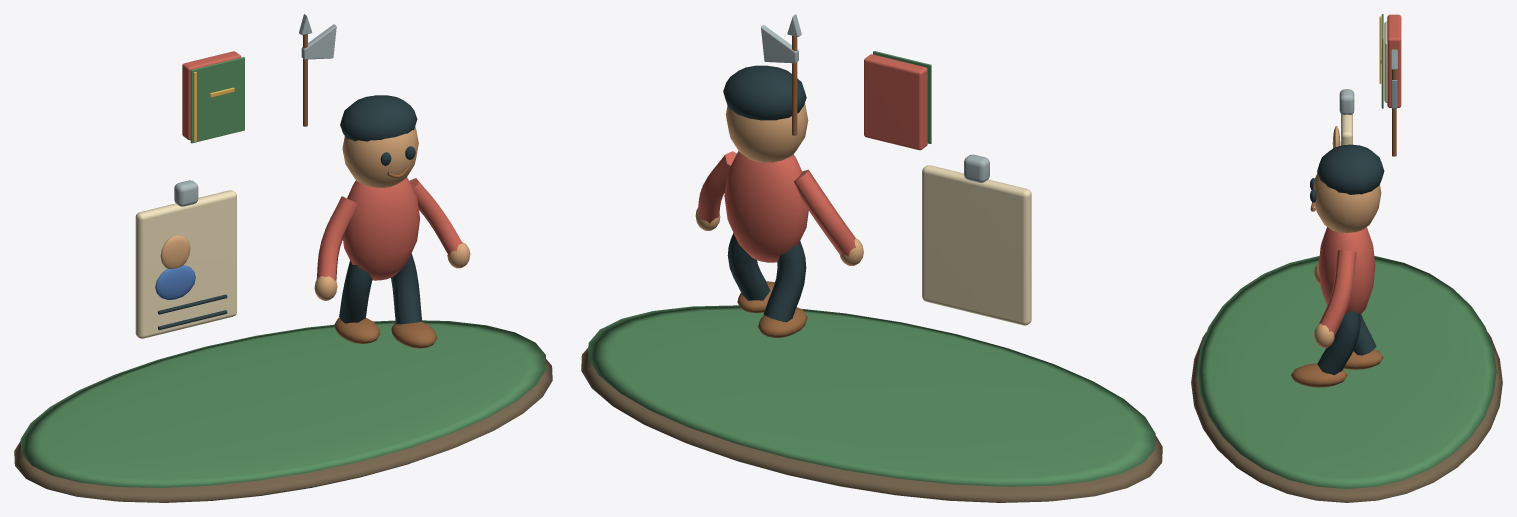
Rendered from complete-third-sun-tzu-strategist.glb.
3 views of the same model, side by side, from view 1: azimuth 30°, elevation 25°; view 2: azimuth 150°, elevation 25°; view 3: azimuth 270°, elevation 25° (orthographic). The views are drawn at different scales.
Parts seen in each view (by area): view 1: complete-third-sun-tzu-strategist_surface_01, complete-third-sun-tzu-strategist_surface_02, complete-third-sun-tzu-strategist_surface_08, complete-third-sun-tzu-strategist_surface_00, complete-third-sun-tzu-strategist_surface_06, complete-third-sun-tzu-strategist_surface_04, complete-third-sun-tzu-strategist_surface_07, complete-third-sun-tzu-strategist_surface_03, complete-third-sun-tzu-strategist_surface_05; view 2: complete-third-sun-tzu-strategist_surface_01, complete-third-sun-tzu-strategist_surface_08, complete-third-sun-tzu-strategist_surface_02, complete-third-sun-tzu-strategist_surface_00, complete-third-sun-tzu-strategist_surface_06, complete-third-sun-tzu-strategist_surface_04, complete-third-sun-tzu-strategist_surface_07, complete-third-sun-tzu-strategist_surface_03; view 3: complete-third-sun-tzu-strategist_surface_01, complete-third-sun-tzu-strategist_surface_00, complete-third-sun-tzu-strategist_surface_08, complete-third-sun-tzu-strategist_surface_06, complete-third-sun-tzu-strategist_surface_04, complete-third-sun-tzu-strategist_surface_07, complete-third-sun-tzu-strategist_surface_03, complete-third-sun-tzu-strategist_surface_02.
Boxes of the visible parts, <box> form: complete-third-sun-tzu-strategist_surface_01: <box>20,57,546,487</box>; complete-third-sun-tzu-strategist_surface_02: <box>135,190,236,338</box>; complete-third-sun-tzu-strategist_surface_08: <box>182,51,462,281</box>; complete-third-sun-tzu-strategist_surface_00: <box>14,359,552,502</box>; complete-third-sun-tzu-strategist_surface_06: <box>158,95,422,330</box>; complete-third-sun-tzu-strategist_surface_04: <box>160,127,470,300</box>; complete-third-sun-tzu-strategist_surface_07: <box>303,34,436,348</box>; complete-third-sun-tzu-strategist_surface_03: <box>174,14,336,206</box>; complete-third-sun-tzu-strategist_surface_05: <box>155,265,195,299</box>; complete-third-sun-tzu-strategist_surface_01: <box>588,51,1155,486</box>; complete-third-sun-tzu-strategist_surface_08: <box>698,54,927,262</box>; complete-third-sun-tzu-strategist_surface_02: <box>922,165,1031,325</box>; complete-third-sun-tzu-strategist_surface_00: <box>581,347,1162,502</box>; complete-third-sun-tzu-strategist_surface_06: <box>723,65,806,322</box>; complete-third-sun-tzu-strategist_surface_04: <box>695,103,863,265</box>; complete-third-sun-tzu-strategist_surface_07: <box>737,35,807,337</box>; complete-third-sun-tzu-strategist_surface_03: <box>761,14,989,182</box>; complete-third-sun-tzu-strategist_surface_01: <box>1197,14,1496,488</box>; complete-third-sun-tzu-strategist_surface_00: <box>1191,332,1502,502</box>; complete-third-sun-tzu-strategist_surface_08: <box>1318,14,1401,336</box>; complete-third-sun-tzu-strategist_surface_06: <box>1310,144,1384,375</box>; complete-third-sun-tzu-strategist_surface_04: <box>1313,126,1381,348</box>; complete-third-sun-tzu-strategist_surface_07: <box>1291,69,1396,387</box>; complete-third-sun-tzu-strategist_surface_03: <box>1339,49,1397,114</box>; complete-third-sun-tzu-strategist_surface_02: <box>1341,21,1387,145</box>.
Bounding box in the file's own units: 4.56 × 3.27 × 2.5.
